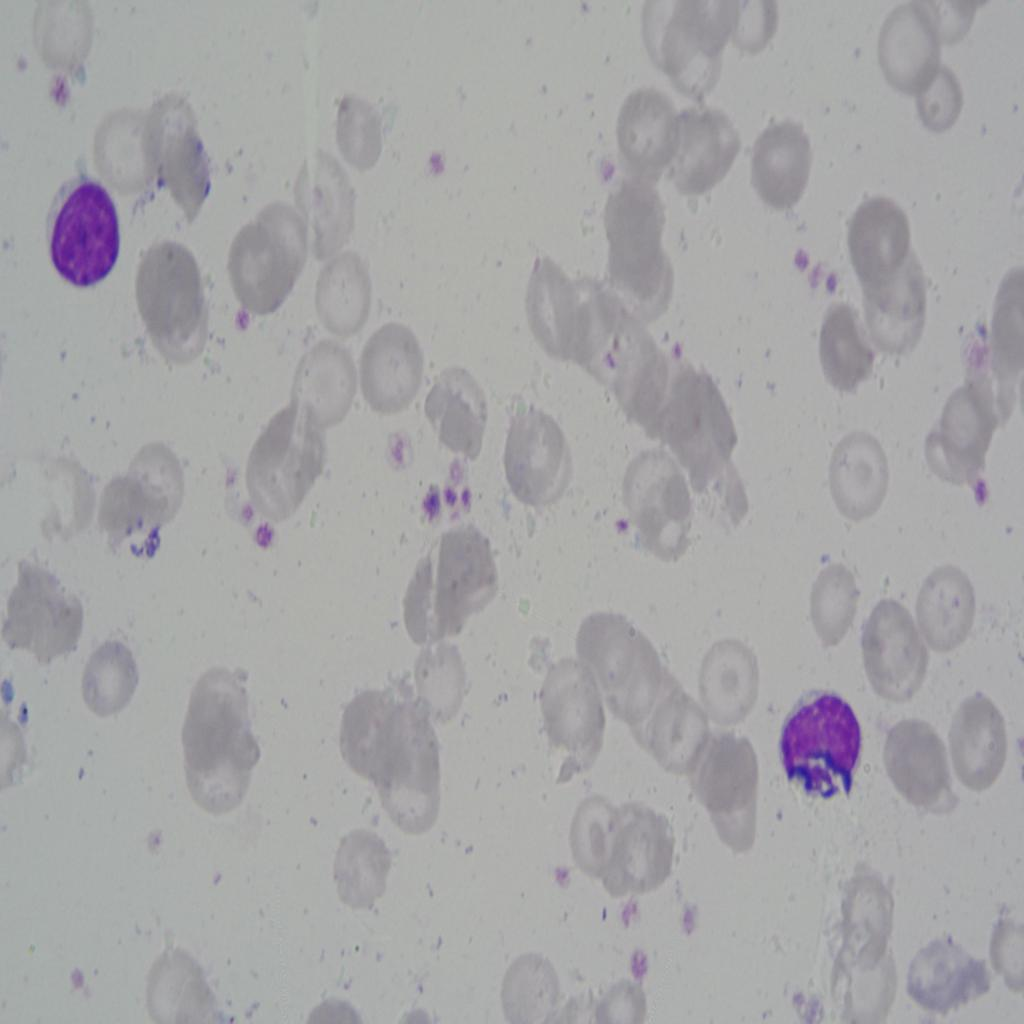Myeoblast: (778, 665, 870, 802), (43, 169, 125, 298)
Platelet: (251, 513, 284, 573), (966, 464, 995, 518), (415, 478, 446, 526), (46, 66, 73, 118), (216, 296, 247, 338), (422, 137, 456, 175), (383, 431, 409, 477), (594, 138, 620, 184), (680, 900, 708, 937), (625, 949, 650, 989), (618, 897, 645, 934), (603, 508, 630, 544), (63, 965, 91, 998), (672, 338, 697, 372), (976, 309, 1002, 338), (821, 273, 850, 297), (455, 480, 476, 512), (0, 674, 19, 709), (550, 854, 568, 888), (438, 483, 453, 520), (796, 244, 812, 274)
